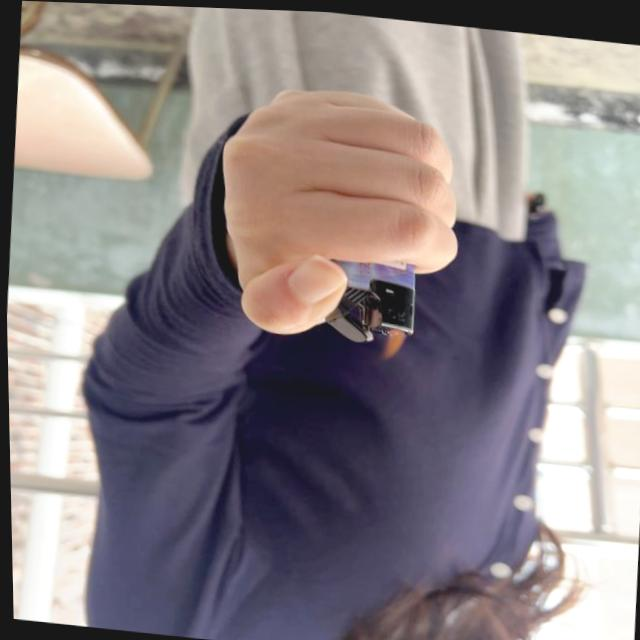helmet: (374, 322, 408, 362)
